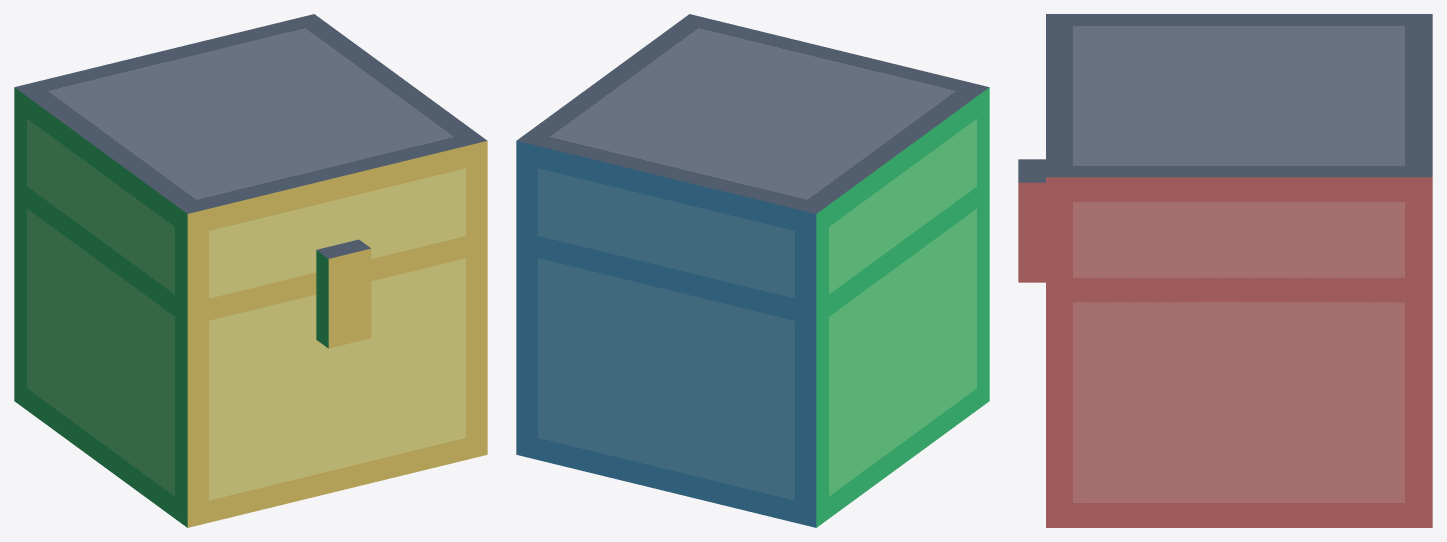
The model's file is chest.gltf.
3 views of the same model, side by side, from view 1: azimuth 30°, elevation 25°; view 2: azimuth 150°, elevation 25°; view 3: azimuth 270°, elevation 25° (orthographic). The views are drawn at different scales.
Visible parts, largest first — view 1: cube (×3); view 2: cube (×2); view 3: cube (×3).
Boxes of the visible parts, x1=… form: cube (×3): x1=14, y1=14, x2=487, y2=527; cube (×2): x1=516, y1=14, x2=989, y2=527; cube (×3): x1=1018, y1=14, x2=1432, y2=527.
Bounding box in the file's own units: 0.875 × 0.875 × 0.9375.
1 material, 1 textured.
